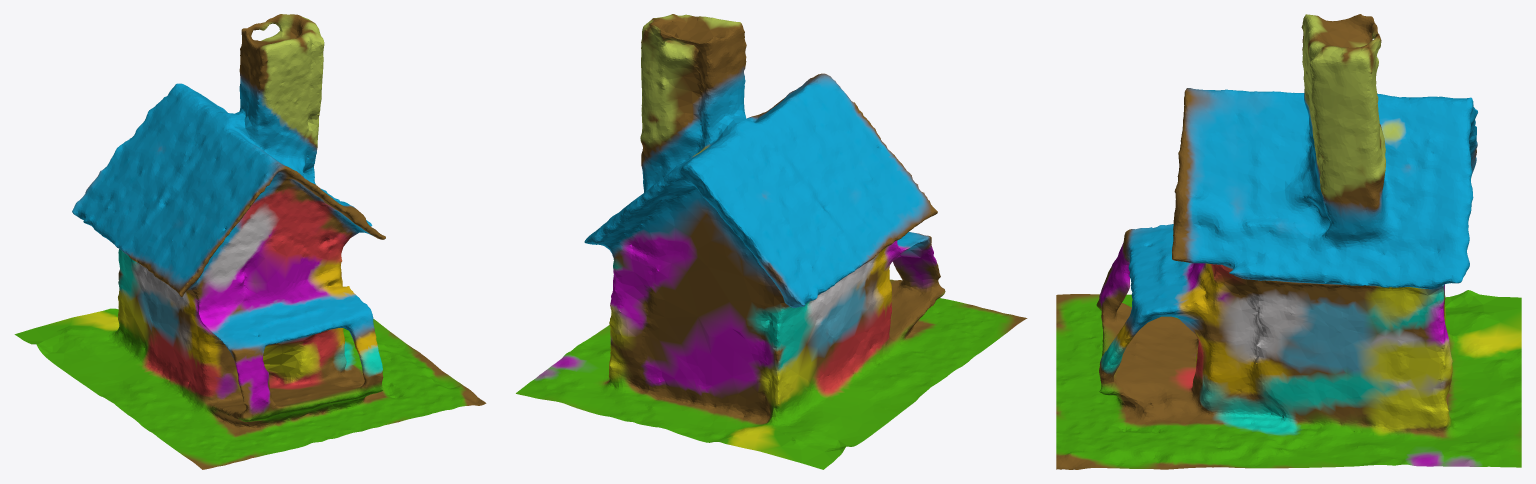
The model's file is color_191529_fmt2_1.glb.
3 renders of one model, left to right at view 1: azimuth 30°, elevation 25°; view 2: azimuth 150°, elevation 25°; view 3: azimuth 270°, elevation 25°, orthographic. The views are drawn at different scales.
Visible parts, largest first — view 1: house2; view 2: house2; view 3: house2.
Part boxes in pixels (<box>): house2: <box>14,14,486,469</box>; house2: <box>516,14,1027,469</box>; house2: <box>1056,14,1521,469</box>.
Bounding box in the file's own units: 5.85 × 6.18 × 6.71.
